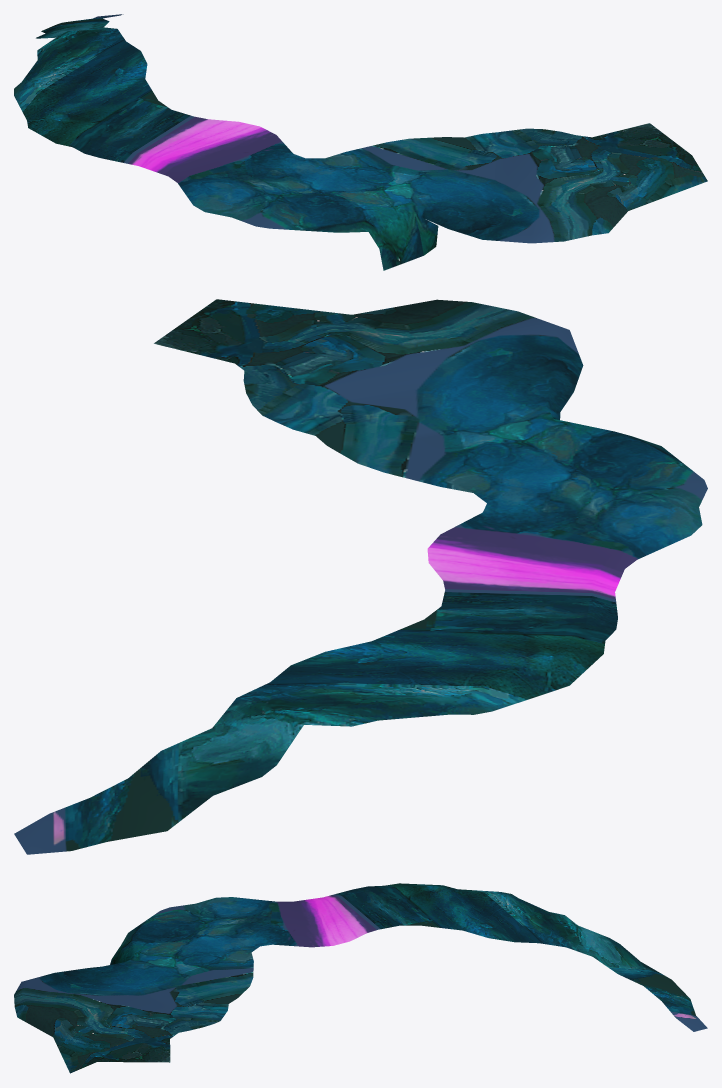
The model's file is 2303_floor07_088.FBX.
3 renders of one model, top to bottom at view 1: azimuth 30°, elevation 25°; view 2: azimuth 150°, elevation 25°; view 3: azimuth 270°, elevation 25°, orthographic. The views are drawn at different scales.
Parts seen in each view (by area): view 1: f_2301_floor07; view 2: f_2301_floor07; view 3: f_2301_floor07.
Part boxes in pixels (x1,y1,x2,y2): f_2301_floor07: (14,14,707,270); f_2301_floor07: (14,299,707,854); f_2301_floor07: (14,883,707,1073).
Bounding box in the file's own units: 4498 × 688 × 7038.
